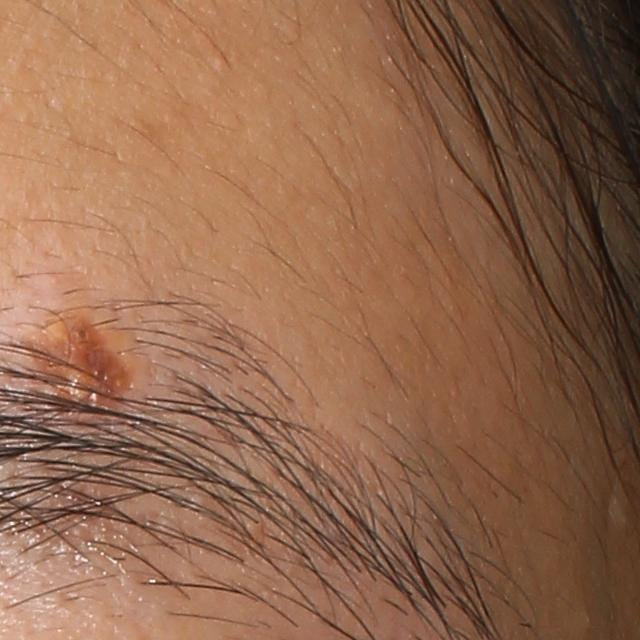other: (18, 299, 141, 413)
